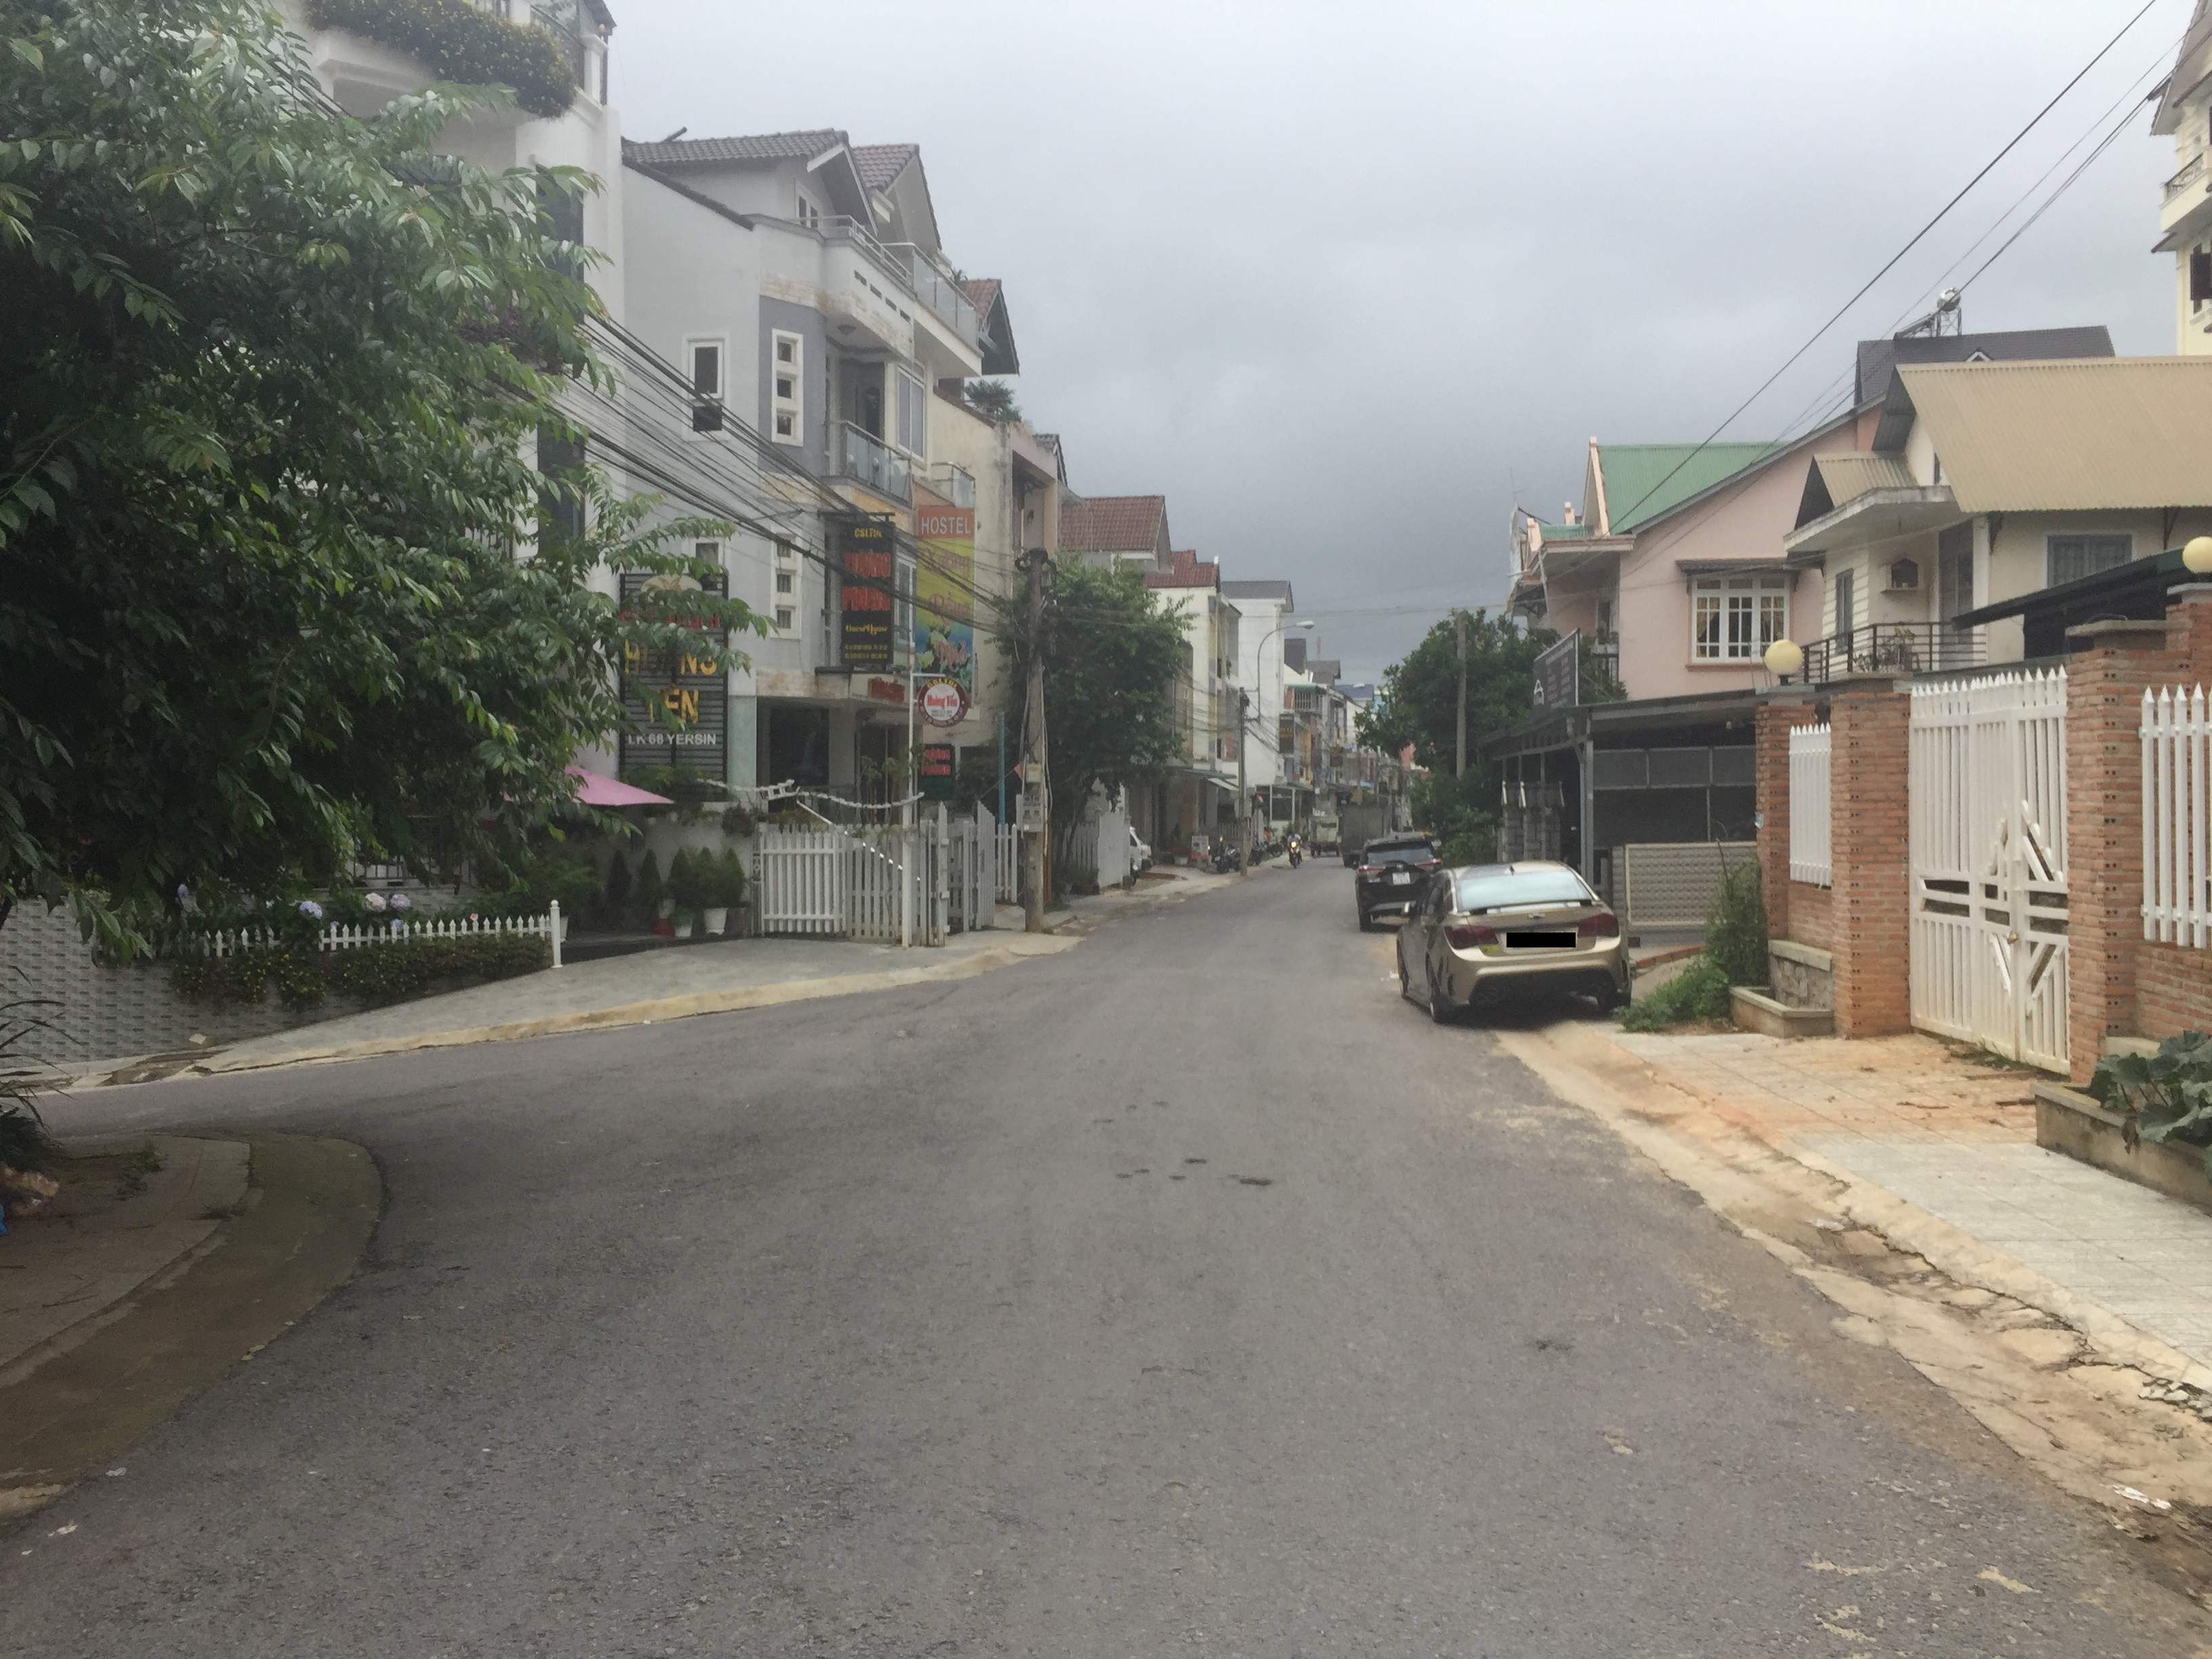hole: (1531, 1340, 1576, 1354), (1228, 1171, 1271, 1185), (1184, 1154, 1207, 1166), (1090, 1117, 1115, 1124), (1113, 1173, 1134, 1180), (1123, 1105, 1139, 1114), (1167, 1175, 1188, 1180), (1151, 1101, 1169, 1107), (1134, 1168, 1150, 1173)
